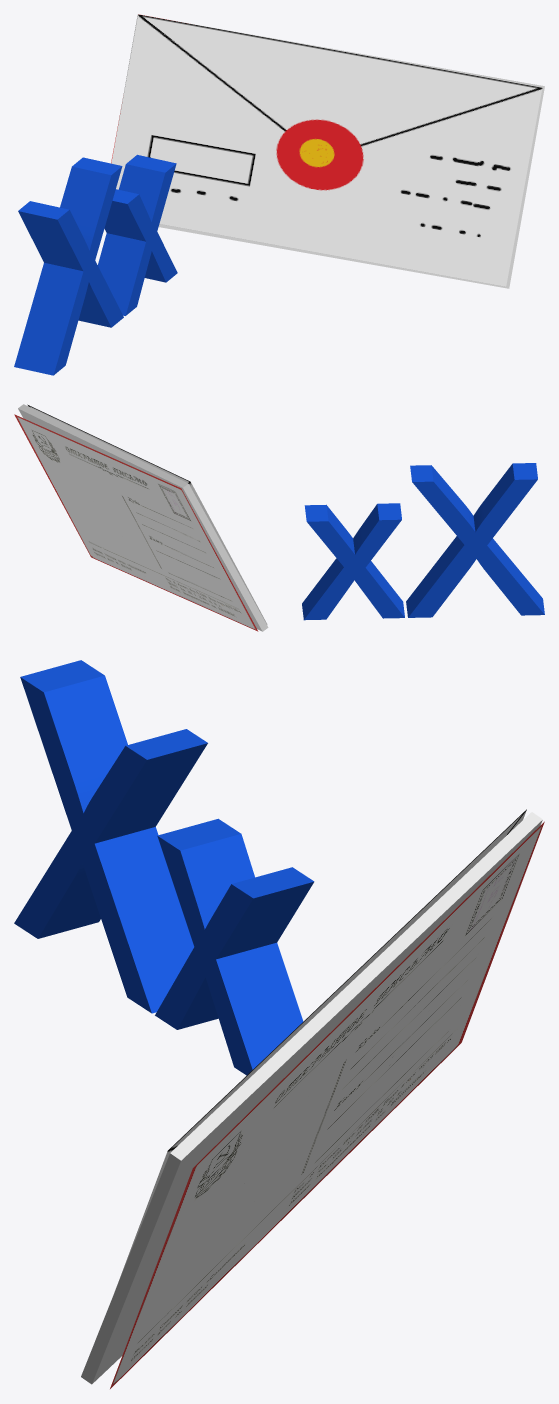
3 views of the same model, one above another, from view 1: azimuth 30°, elevation 25°; view 2: azimuth 150°, elevation 25°; view 3: azimuth 270°, elevation 25° (orthographic). The views are drawn at different scales.
Visible parts, largest first — view 1: Плоскость.001, Mesh_0.027, Куб; view 2: Плоскость.002, Mesh_0.027, Куб, Плоскость.001; view 3: Mesh_0.027, Плоскость.002, Куб, Плоскость.001.
Boxes of the visible parts, left/top/right/bottom form: Плоскость.001: left=111, top=14, right=542, bottom=286; Mesh_0.027: left=14, top=154, right=177, bottom=375; Куб: left=115, top=15, right=544, bottom=288; Плоскость.002: left=14, top=414, right=258, bottom=631; Mesh_0.027: left=302, top=463, right=544, bottom=620; Куб: left=18, top=404, right=268, bottom=631; Плоскость.001: left=27, top=404, right=267, bottom=624; Mesh_0.027: left=14, top=660, right=314, bottom=1075; Плоскость.002: left=110, top=821, right=544, bottom=1388; Куб: left=81, top=812, right=542, bottom=1384; Плоскость.001: left=115, top=809, right=526, bottom=1289.
Size of the model in its own units: 45.44 by 18.27 by 22.6.
3 materials, 2 textured.
